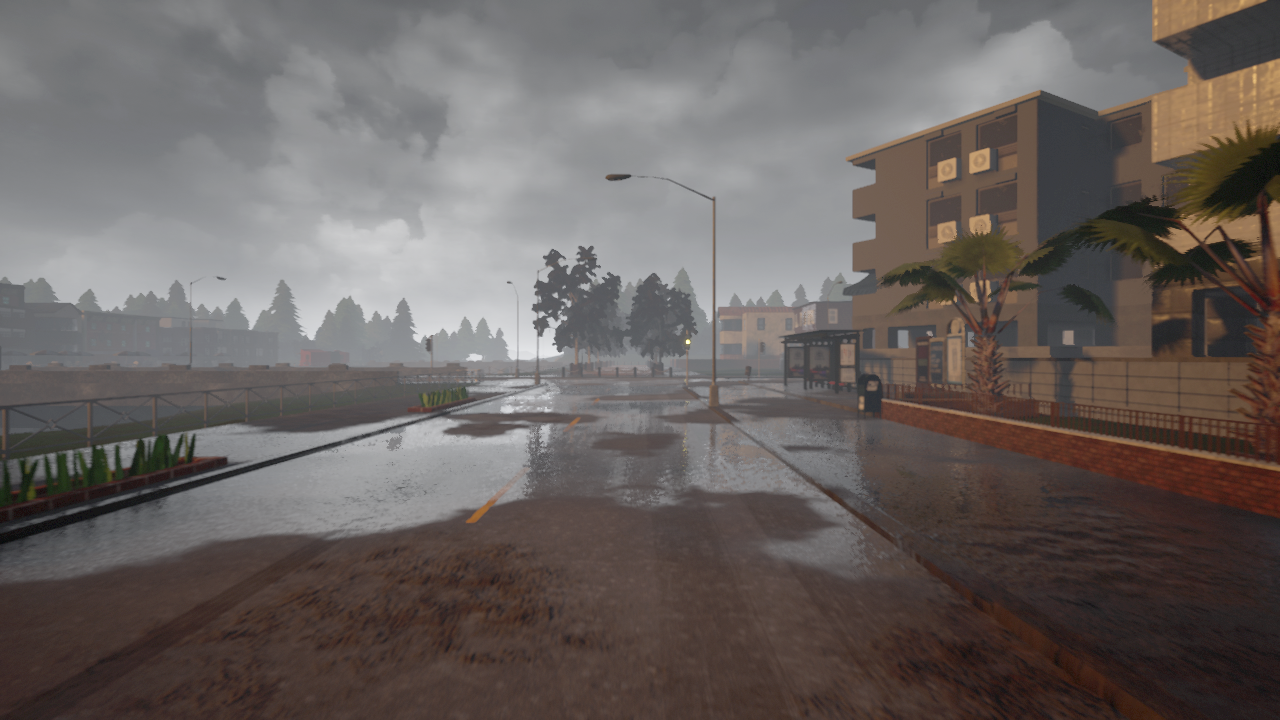yellow: (684, 334, 692, 351)
